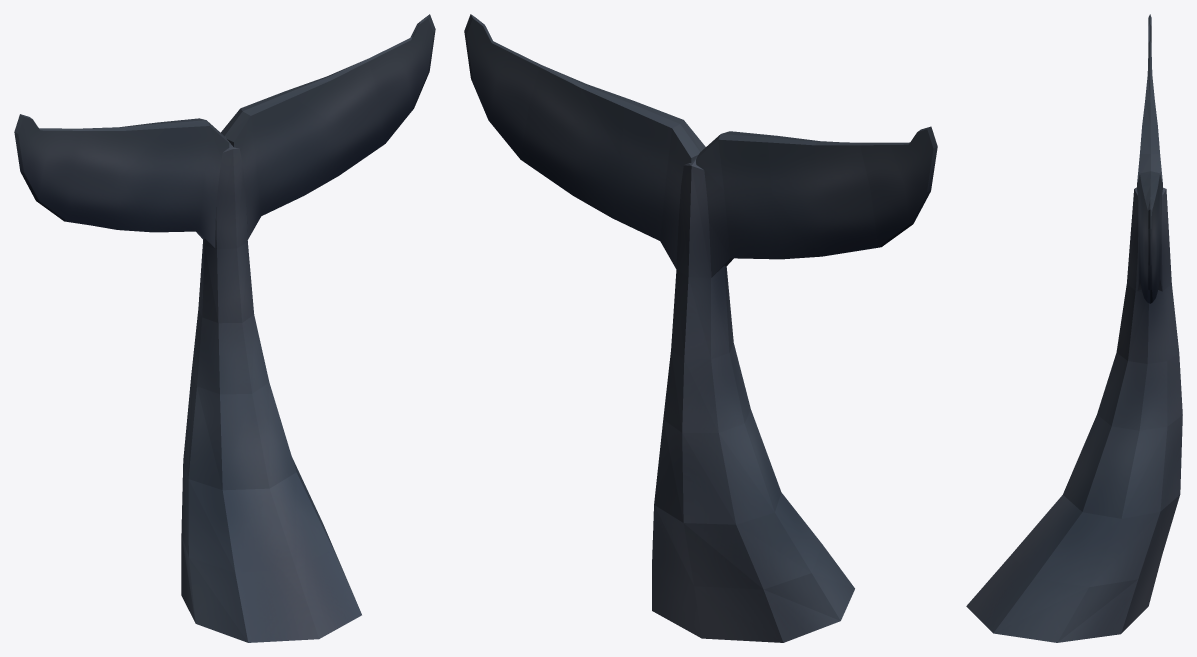
File: Whale tail.glb
3 views of the same model, side by side, from view 1: azimuth 30°, elevation 25°; view 2: azimuth 150°, elevation 25°; view 3: azimuth 270°, elevation 25° (orthographic). The views are drawn at different scales.
Parts seen in each view (by area): view 1: Node; view 2: Node; view 3: Node.
Part boxes in pixels (x1,y1,x2,y2): Node: (14,14,435,642); Node: (464,14,937,642); Node: (966,14,1182,642).
Bounding box in the file's own units: 12.52 × 14.38 × 5.71.
1 material, 1 textured.
